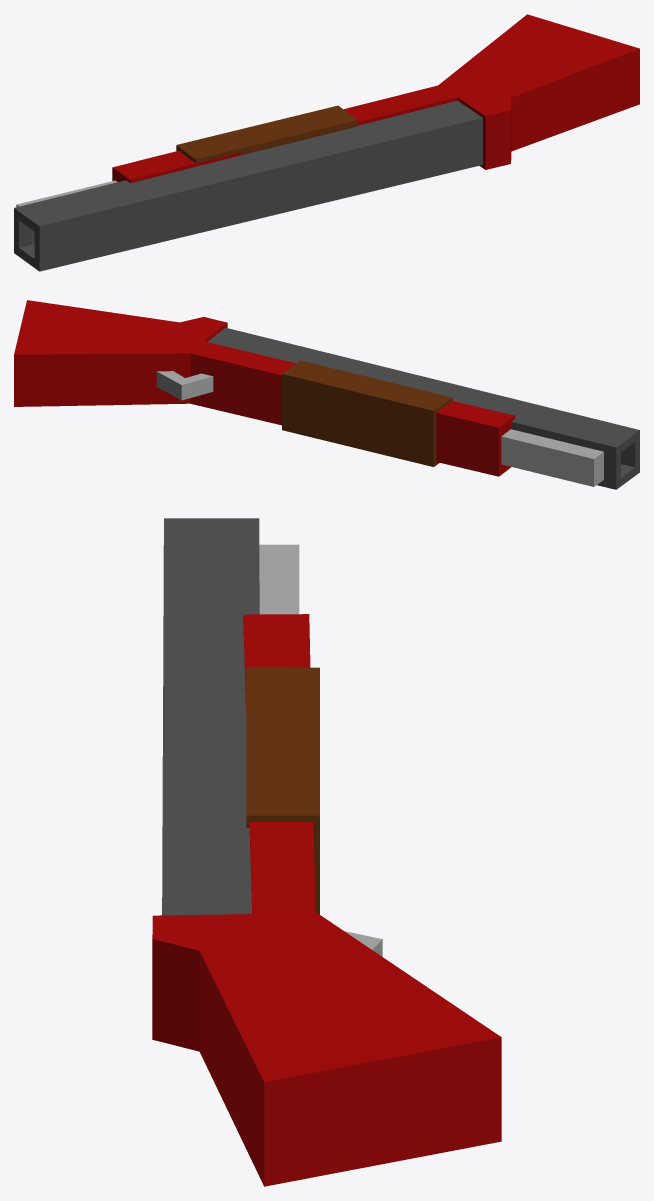
Rendered from Two Handed Gun 01.FBX.
3 renders of one model, top to bottom at view 1: azimuth 30°, elevation 25°; view 2: azimuth 150°, elevation 25°; view 3: azimuth 270°, elevation 25°, orthographic. The views are drawn at different scales.
Visible parts, largest first — view 1: Two Handed Gun 01; view 2: Two Handed Gun 01; view 3: Two Handed Gun 01.
Part boxes in pixels (x1,y1,x2,y2): Two Handed Gun 01: (14,14,639,271); Two Handed Gun 01: (14,300,639,489); Two Handed Gun 01: (152,518,501,1186).
Bounding box in the file's own units: 91.04 × 8.33 × 23.4.
